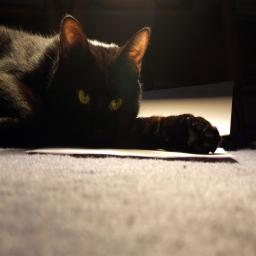catnose: (90, 126, 105, 138)
